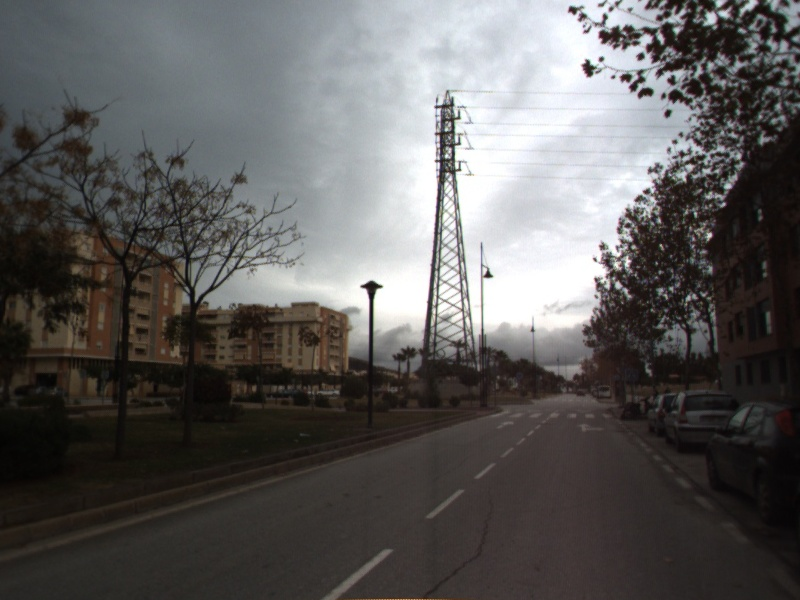STRAIGHT: (494, 418, 517, 431)
STRAIGHT_RIGHT: (575, 421, 608, 434)
